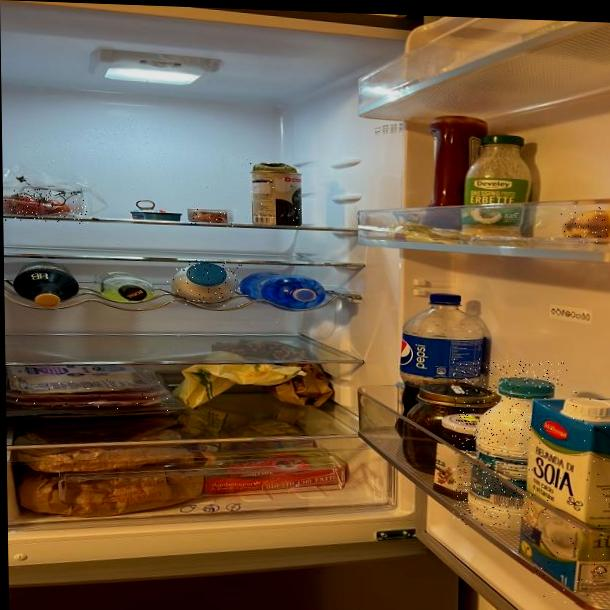bacon: (186, 208, 236, 228)
ham: (6, 375, 177, 411)
lemon: (561, 206, 610, 244)
milk: (451, 358, 570, 530), (531, 387, 610, 605), (166, 258, 242, 308)
olive: (251, 163, 302, 229)
tomatoes: (3, 187, 89, 224)
